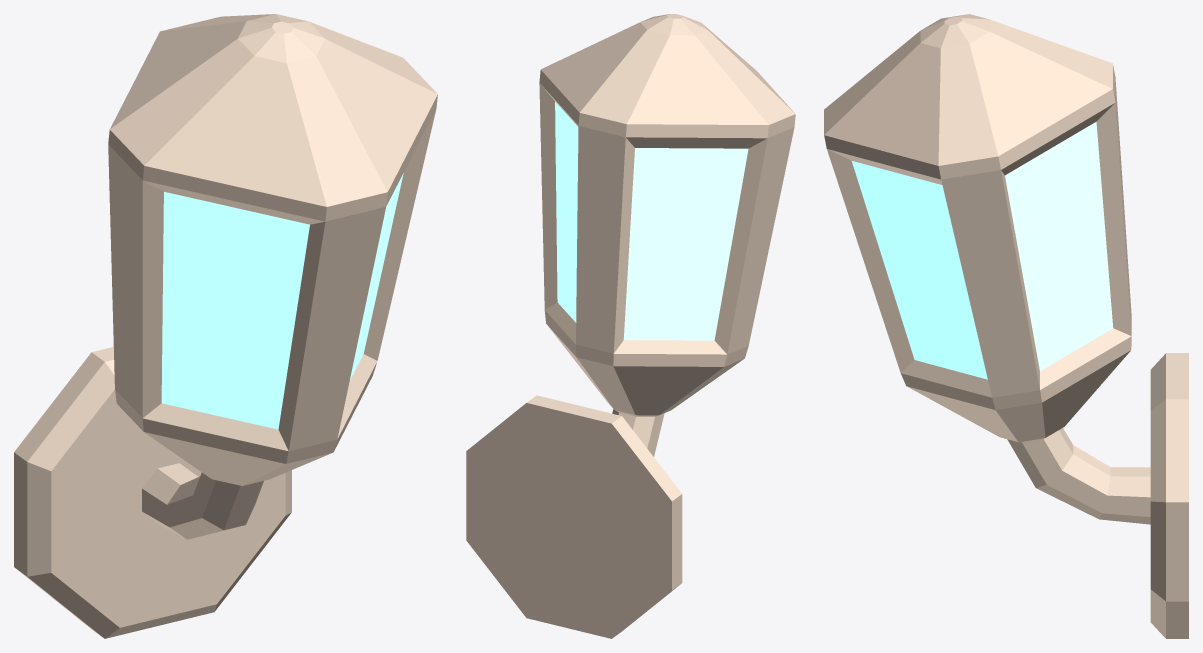
The model's file is Lamp_Wall.fbx.
The picture shows the model from 3 angles, left to right: view 1: azimuth 30°, elevation 25°; view 2: azimuth 150°, elevation 25°; view 3: azimuth 270°, elevation 25°; orthographic projection. The views are drawn at different scales.
Visible parts, largest first — view 1: Lamp_Wall_LOD0; view 2: Lamp_Wall_LOD0; view 3: Lamp_Wall_LOD0.
Boxes of the visible parts, x1,y1,x2,y2 form: Lamp_Wall_LOD0: (14, 14, 437, 638); Lamp_Wall_LOD0: (466, 14, 795, 638); Lamp_Wall_LOD0: (824, 14, 1188, 638).
Size of what is drawn, in the model's own units: 0.1921 by 0.4311 by 0.2391.
